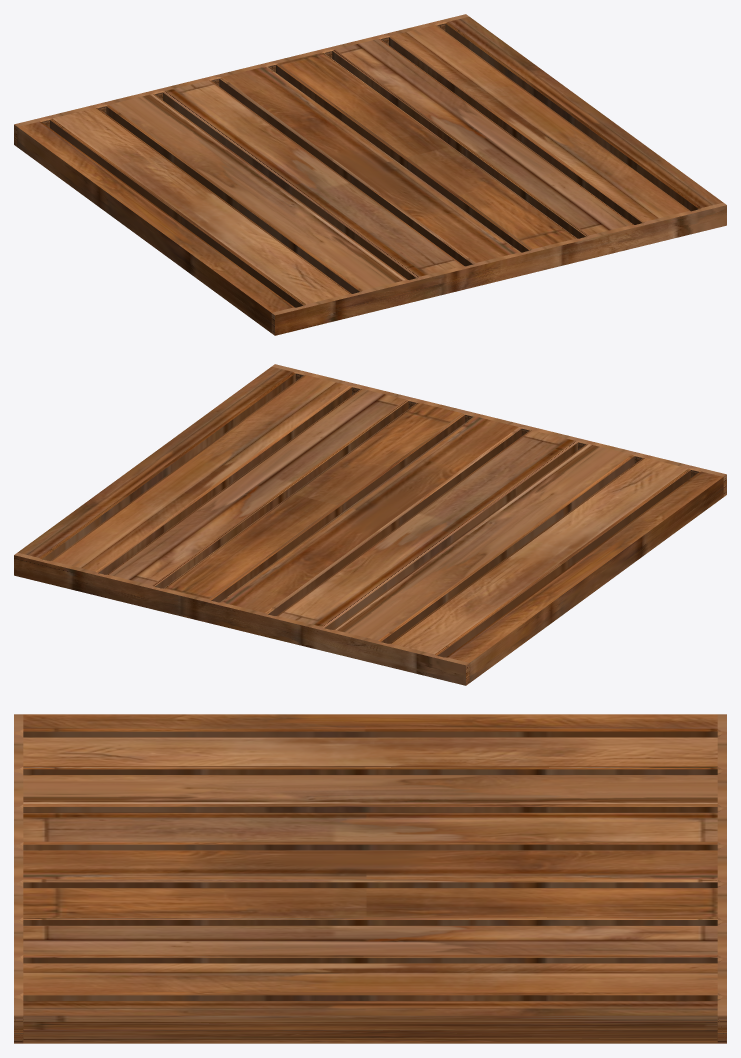
The model's file is woodfloor.obj.
3 renders of one model, top to bottom at view 1: azimuth 30°, elevation 25°; view 2: azimuth 150°, elevation 25°; view 3: azimuth 270°, elevation 25°, orthographic. The views are drawn at different scales.
Parts seen in each view (by area): view 1: Cube; view 2: Cube; view 3: Cube.
Part boxes in pixels (x1,y1,x2,y2): Cube: (14,14,726,335); Cube: (14,364,726,685); Cube: (14,714,726,1043).
Size of the model in its own units: 4 by 0.1728 by 4.
Materials: 1 (1 with a texture image).
